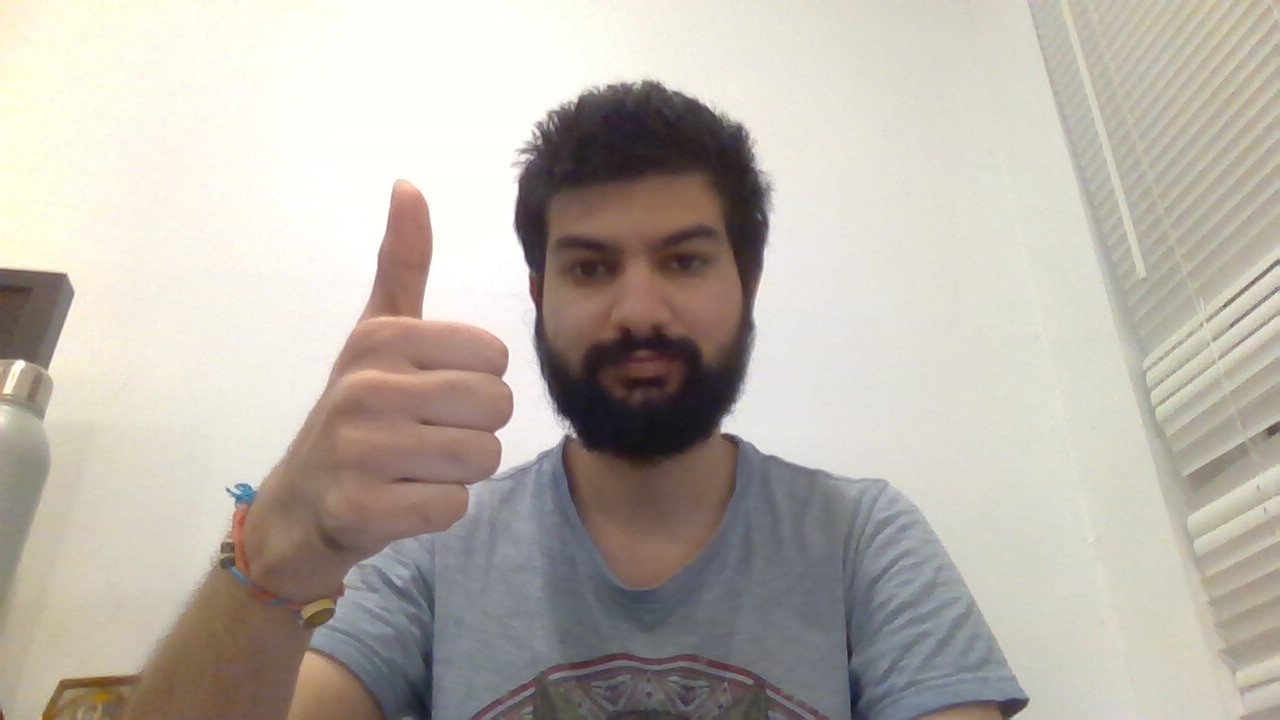up: (310, 169, 522, 555)
